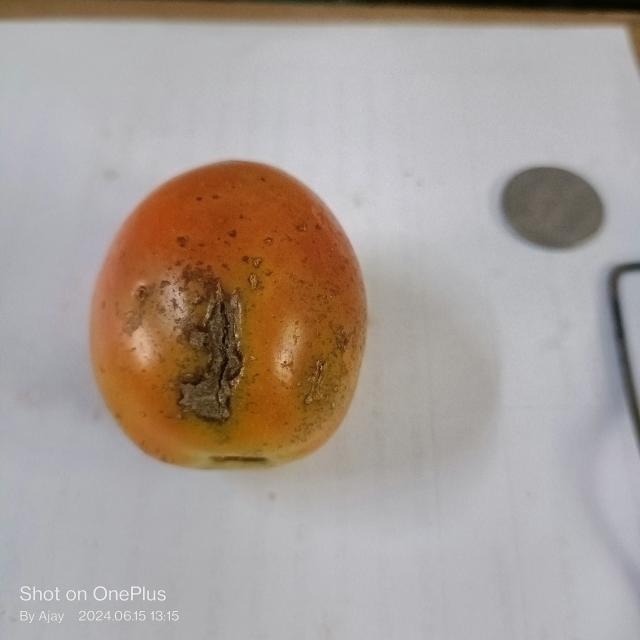Bacterial_Spot: (168, 265, 240, 421)
